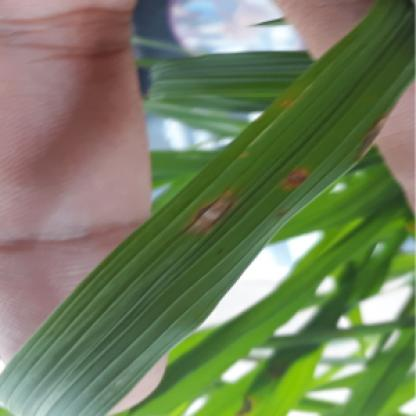Rice blast: (194, 197, 241, 245), (287, 166, 314, 194)
